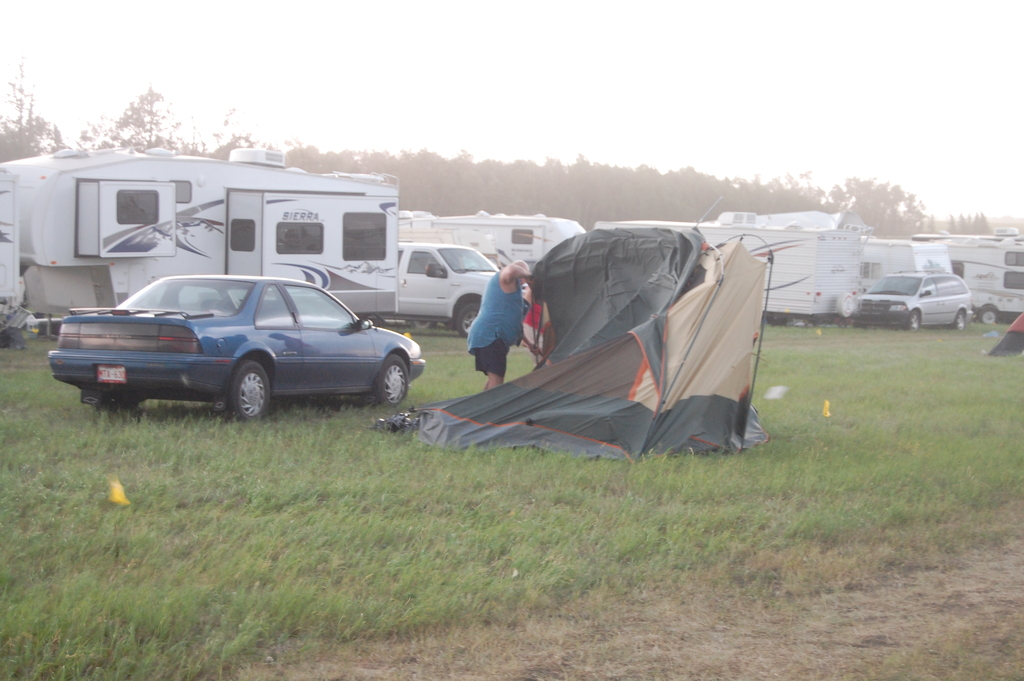Car: (46, 272, 408, 423), (392, 240, 533, 342), (856, 263, 983, 335)
